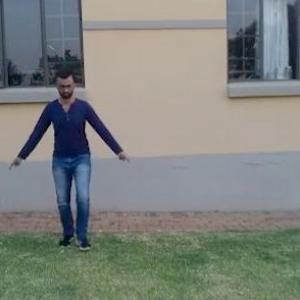land: (0, 65, 130, 257)
